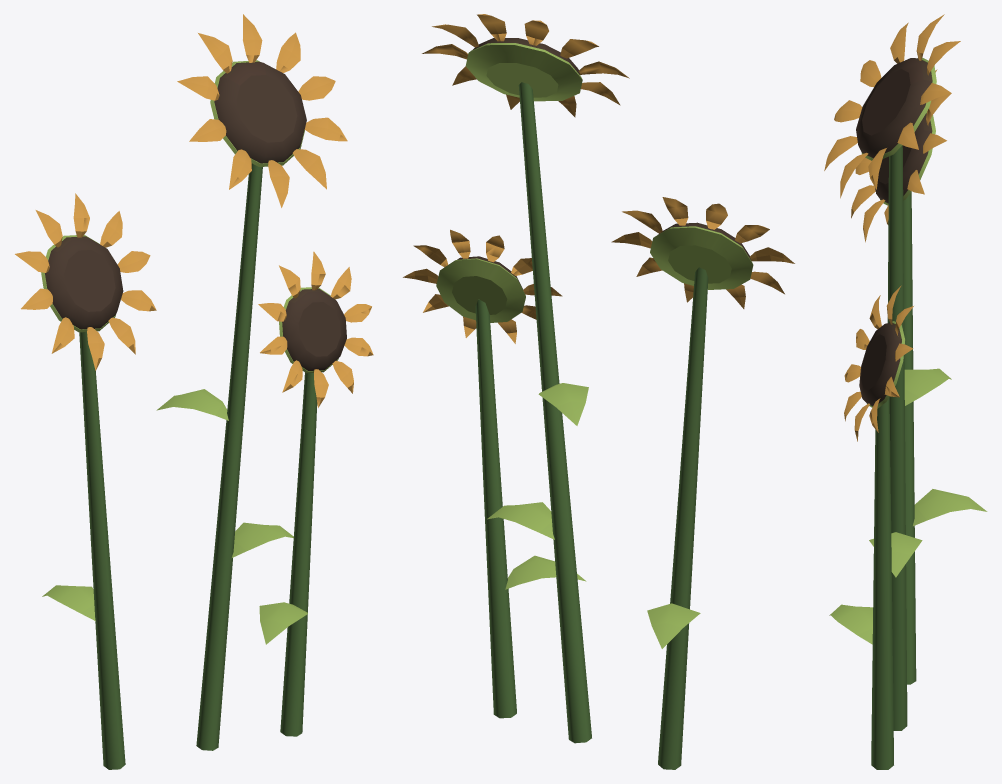
File: foliage_sunflower_a.glb
The picture shows the model from 3 angles, left to right: view 1: azimuth 30°, elevation 25°; view 2: azimuth 150°, elevation 25°; view 3: azimuth 270°, elevation 25°; orthographic projection. The views are drawn at different scales.
Parts seen in each view (by area): view 1: sun_stalk_0, sun_head_0_disc, sun_head_0, sun_head_1_disc, sun_head_1, sun_leaf_0_0, sun_head_2_disc, sun_head_2; view 2: sun_stalk_0, sun_head_0_back, sun_leaf_0_0, sun_head_1_back, sun_head_2_back, sun_head_0, sun_head_1, sun_head_2; view 3: sun_stalk_0, sun_head_0_disc, sun_leaf_0_0, sun_head_0, sun_head_2_disc, sun_head_2, sun_head_1, sun_head_1_disc, sun_head_0_back.
Part boxes in pixels (left/top/right/bottom): sun_stalk_0: left=79, top=163, right=317, bottom=769; sun_head_0_disc: left=214, top=61, right=306, bottom=163; sun_head_0: left=177, top=14, right=347, bottom=207; sun_head_1_disc: left=45, top=236, right=123, bottom=329; sun_head_1: left=15, top=193, right=156, bottom=370; sun_leaf_0_0: left=42, top=389, right=307, bottom=644; sun_head_2_disc: left=282, top=288, right=346, bottom=370; sun_head_2: left=258, top=251, right=373, bottom=407; sun_stalk_0: left=475, top=82, right=708, bottom=769; sun_head_0_back: left=465, top=43, right=582, bottom=101; sun_leaf_0_0: left=487, top=383, right=700, bottom=648; sun_head_1_back: left=650, top=226, right=753, bottom=289; sun_head_2_back: left=436, top=258, right=525, bottom=322; sun_head_0: left=422, top=14, right=629, bottom=117; sun_head_1: left=611, top=197, right=794, bottom=308; sun_head_2: left=403, top=229, right=562, bottom=343; sun_stalk_0: left=871, top=145, right=916, bottom=769; sun_head_0_disc: left=856, top=58, right=932, bottom=158; sun_leaf_0_0: left=829, top=368, right=987, bottom=644; sun_head_0: left=824, top=14, right=960, bottom=198; sun_head_2_disc: left=859, top=322, right=901, bottom=405; sun_head_2: left=844, top=285, right=913, bottom=441; sun_head_1: left=851, top=69, right=951, bottom=242; sun_head_1_disc: left=875, top=113, right=931, bottom=203; sun_head_0_back: left=861, top=57, right=936, bottom=160.
Size of the model in its own units: 0.9811 by 1.8 by 0.3702.
